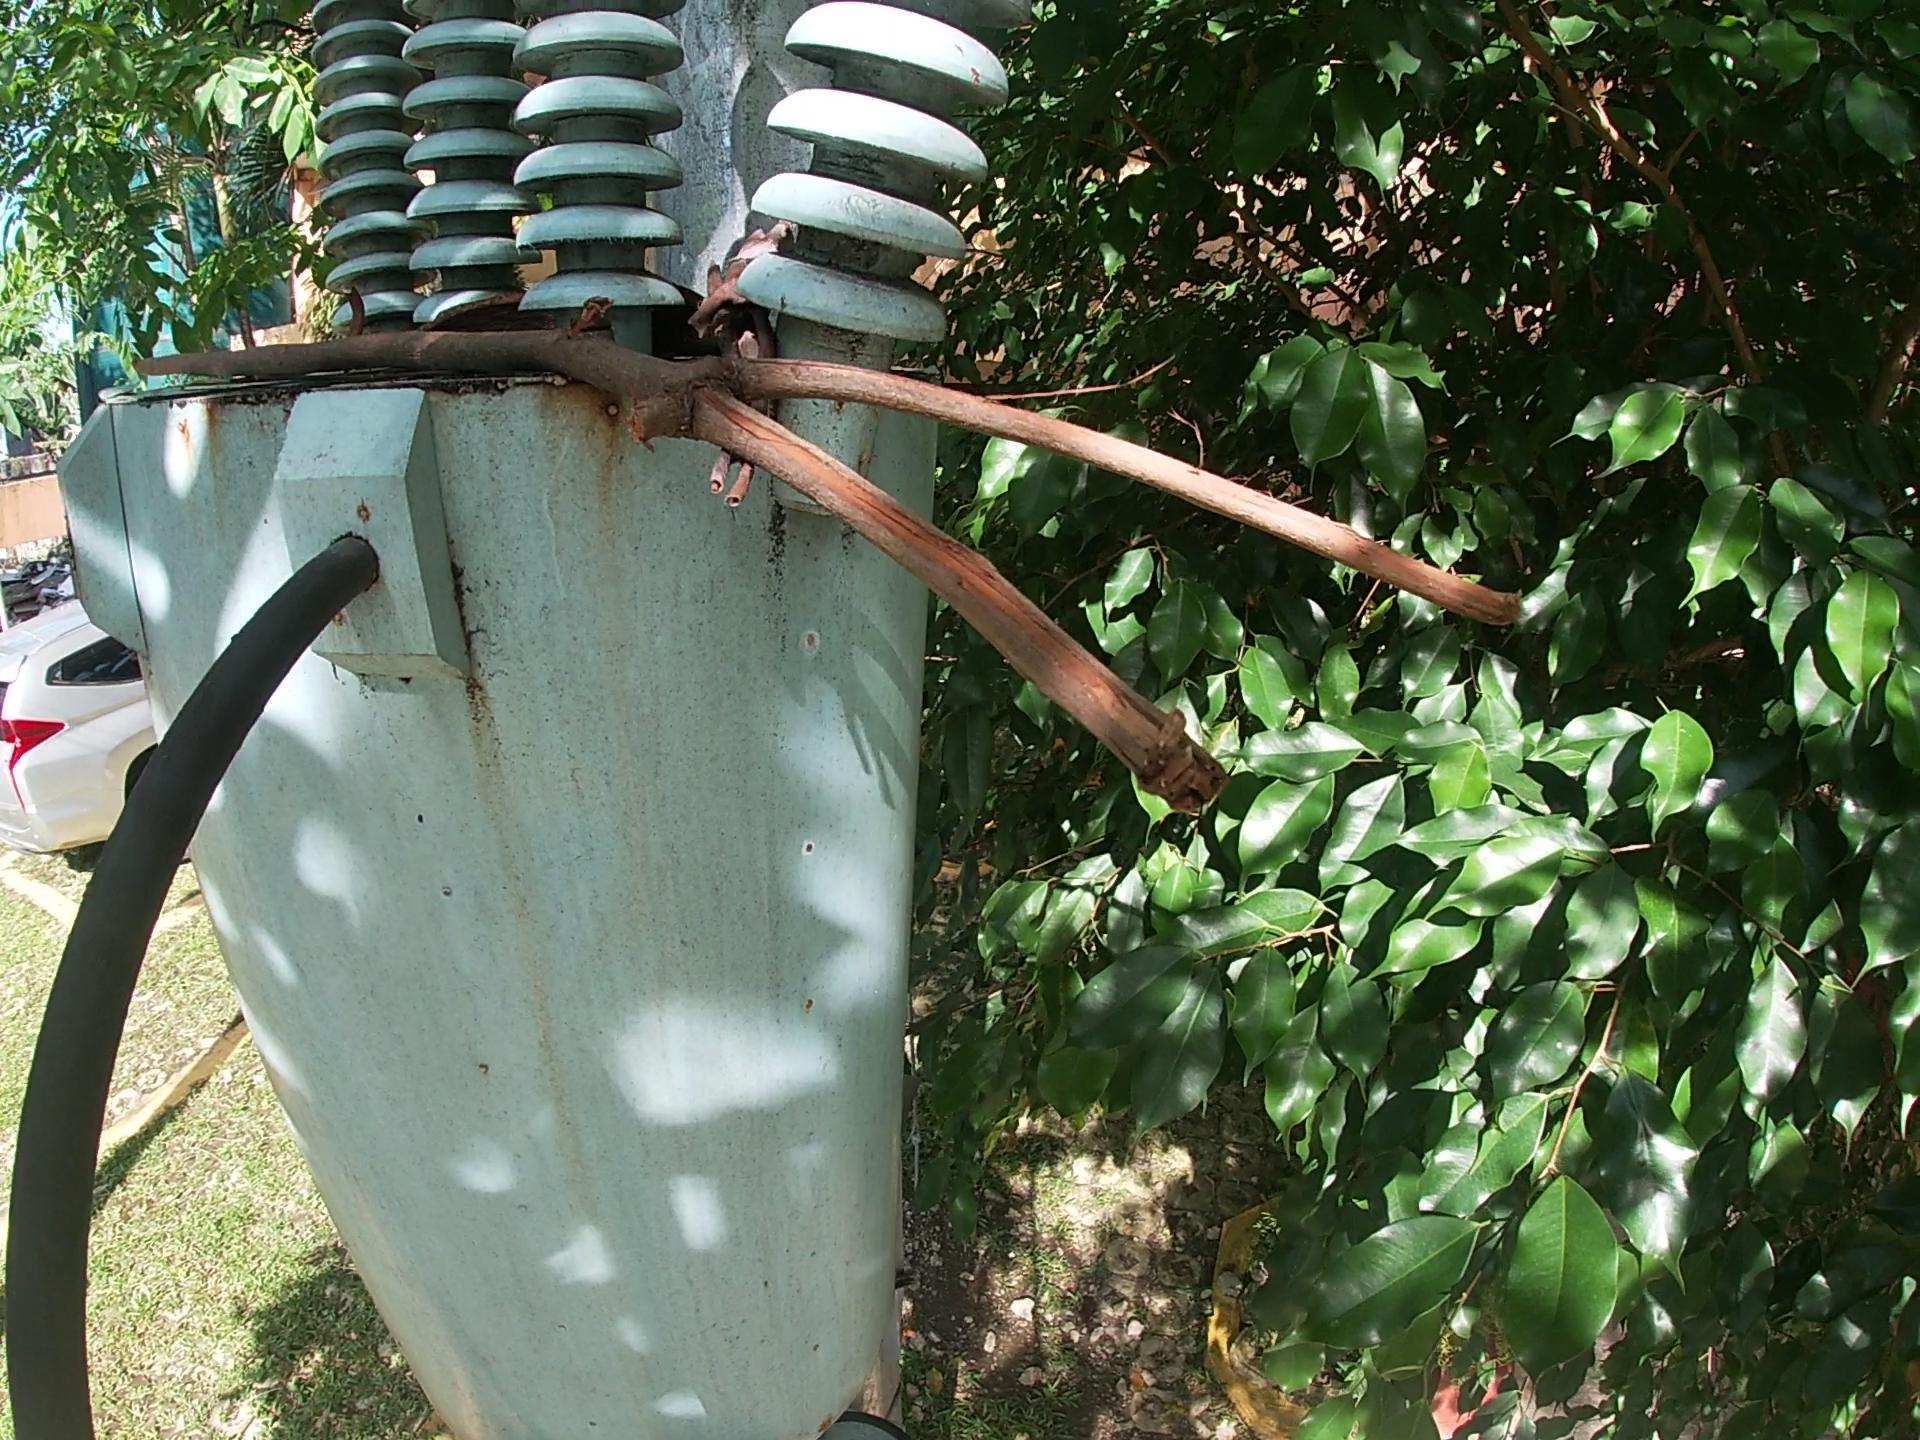mahogany fruit: (425, 278, 701, 362), (337, 284, 376, 337)
tree branch: (113, 290, 1528, 821), (691, 219, 794, 516)
